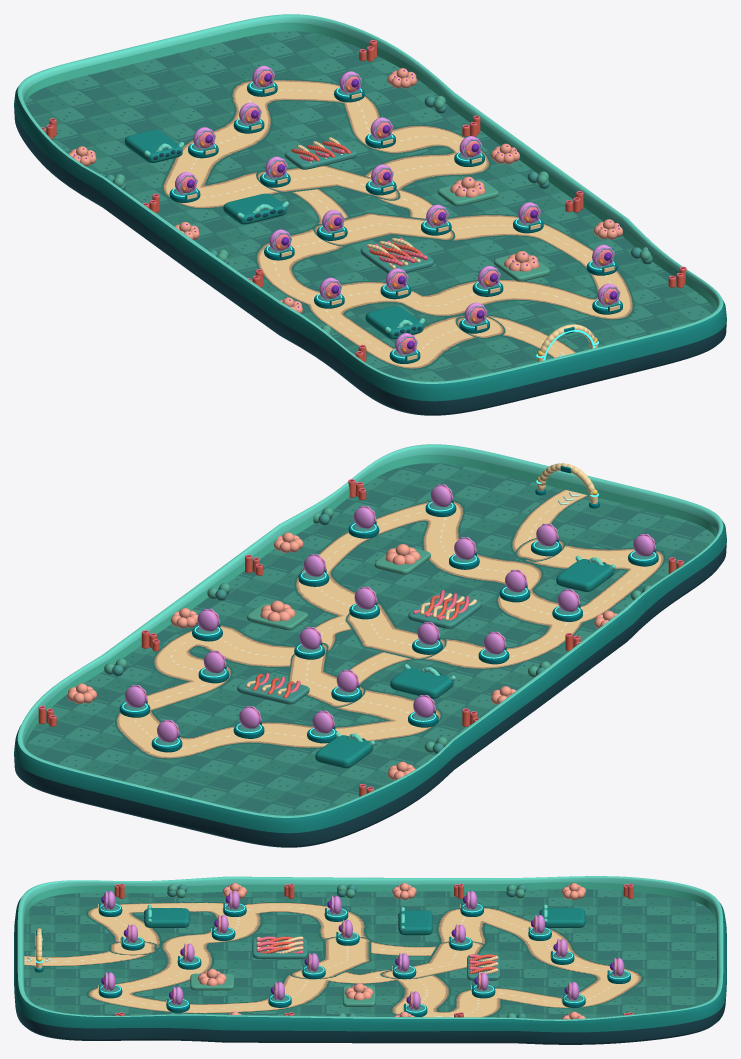
Rendered from targets.glb.
3 renders of one model, top to bottom at view 1: azimuth 30°, elevation 25°; view 2: azimuth 150°, elevation 25°; view 3: azimuth 270°, elevation 25°, orthographic. The views are drawn at different scales.
Parts seen in each view (by area): view 1: Piso pintado, teal, navy, foam, mint, peach, sea, coral2, moss, salmon; view 2: Piso pintado, teal, foam, navy, mint, peach, sea, moss, coral2, salmon; view 3: Piso pintado, teal, navy, foam, mint, peach, sea, moss, coral2, salmon, fibercream.
Boxes of the visible parts, x1,y1,x2,y2 form: Piso pintado: [25, 31, 714, 381]; teal: [14, 86, 726, 401]; navy: [14, 110, 726, 415]; foam: [17, 14, 723, 383]; mint: [23, 22, 716, 309]; peach: [68, 68, 622, 313]; sea: [105, 96, 652, 336]; coral2: [44, 43, 686, 362]; moss: [112, 96, 651, 334]; salmon: [41, 40, 686, 354]; Piso pintado: [25, 463, 715, 815]; teal: [14, 520, 726, 833]; foam: [17, 444, 723, 817]; navy: [14, 542, 726, 847]; mint: [23, 454, 716, 746]; peach: [67, 532, 617, 780]; sea: [112, 513, 643, 753]; moss: [104, 507, 650, 752]; coral2: [38, 482, 683, 796]; salmon: [38, 479, 683, 790]; Piso pintado: [24, 889, 716, 1019]; teal: [14, 897, 726, 1032]; navy: [14, 910, 726, 1044]; foam: [17, 876, 723, 1020]; mint: [24, 882, 716, 985]; peach: [197, 883, 586, 1019]; sea: [167, 884, 526, 1018]; moss: [167, 884, 524, 1017]; coral2: [114, 886, 633, 1017]; salmon: [115, 883, 633, 1015]; fibercream: [256, 936, 498, 973].
Bounding box in the file's own units: 30.63 × 4.18 × 63.06.
28 materials, 1 textured.
